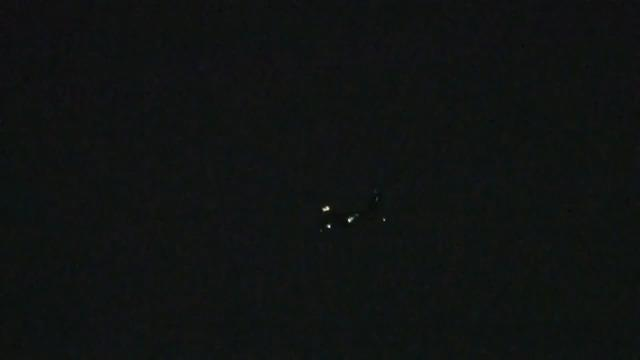Plane: (312, 185, 398, 249)
